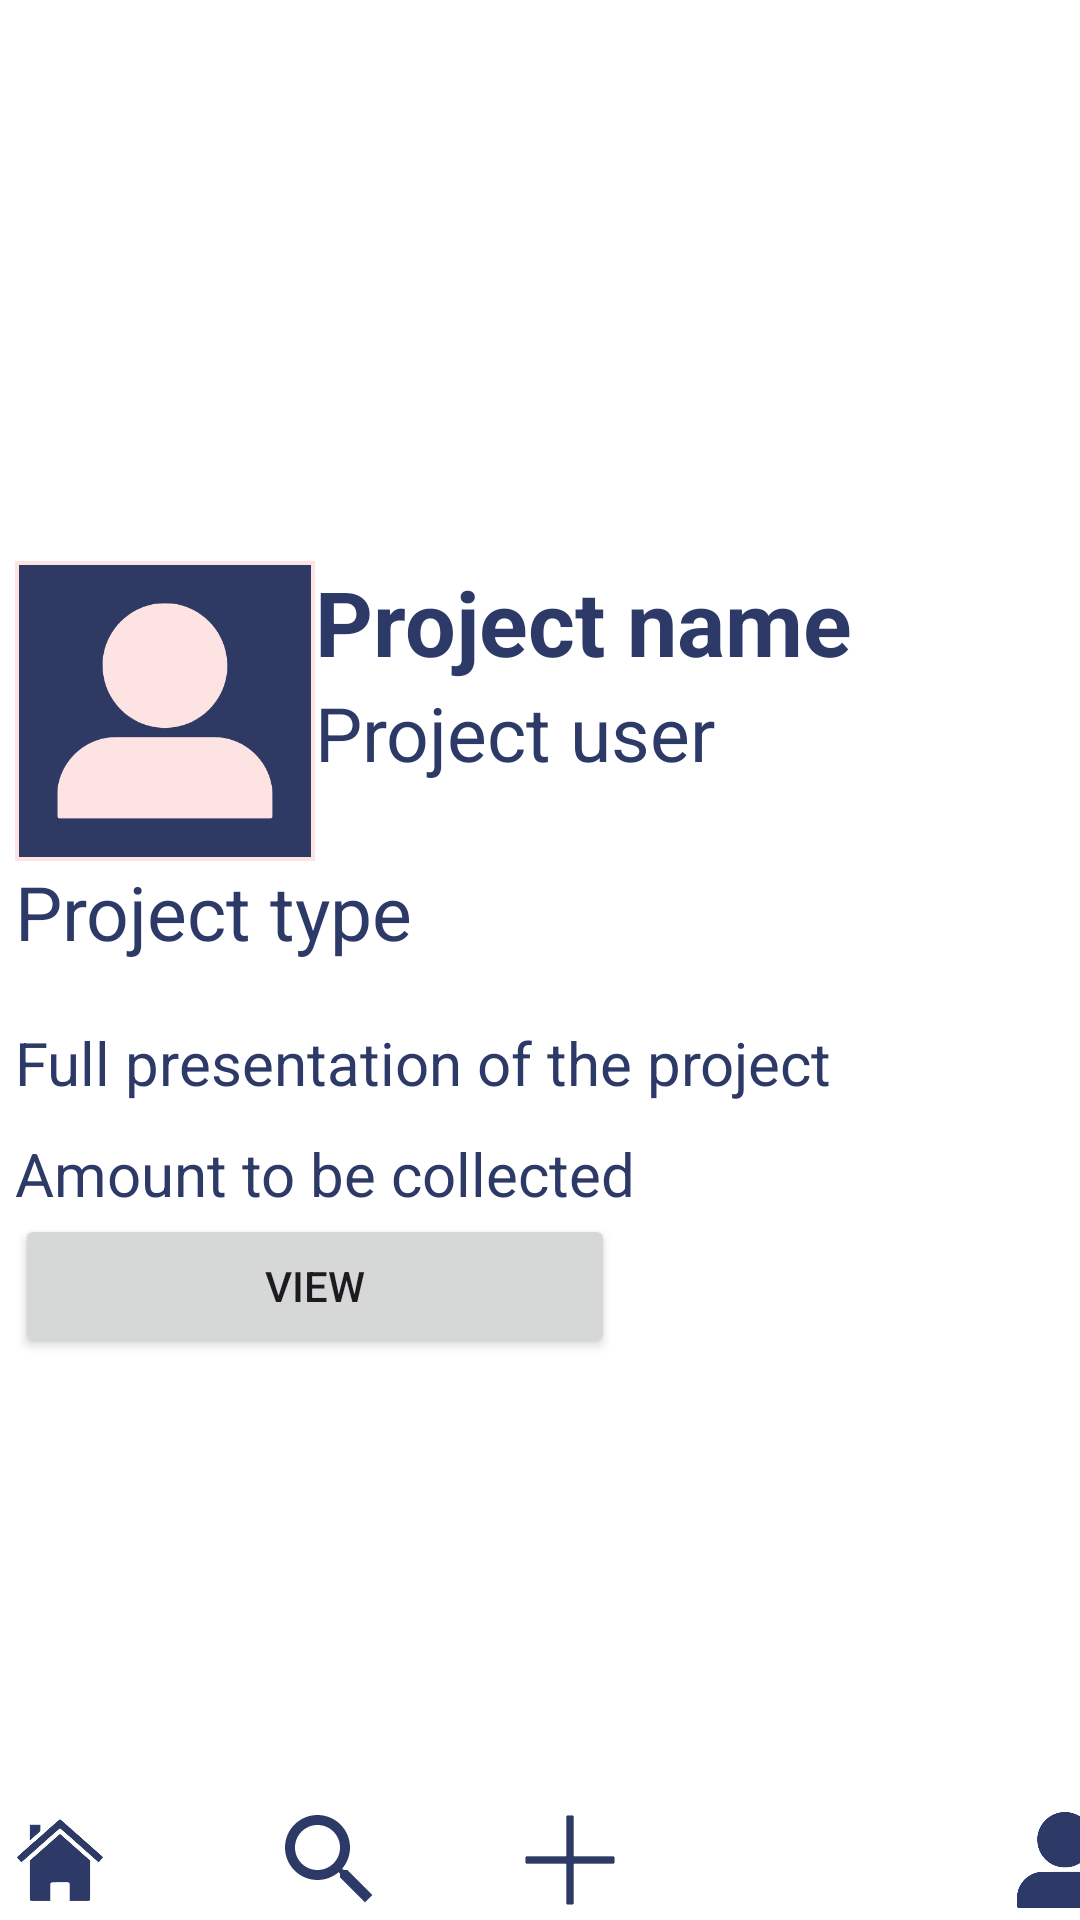

Icon click points for this 1080×1920 phone screenshot, format point (x, y):
home first: point (60, 1860)
plus first: point (570, 1860)
search: point (328, 1858)
